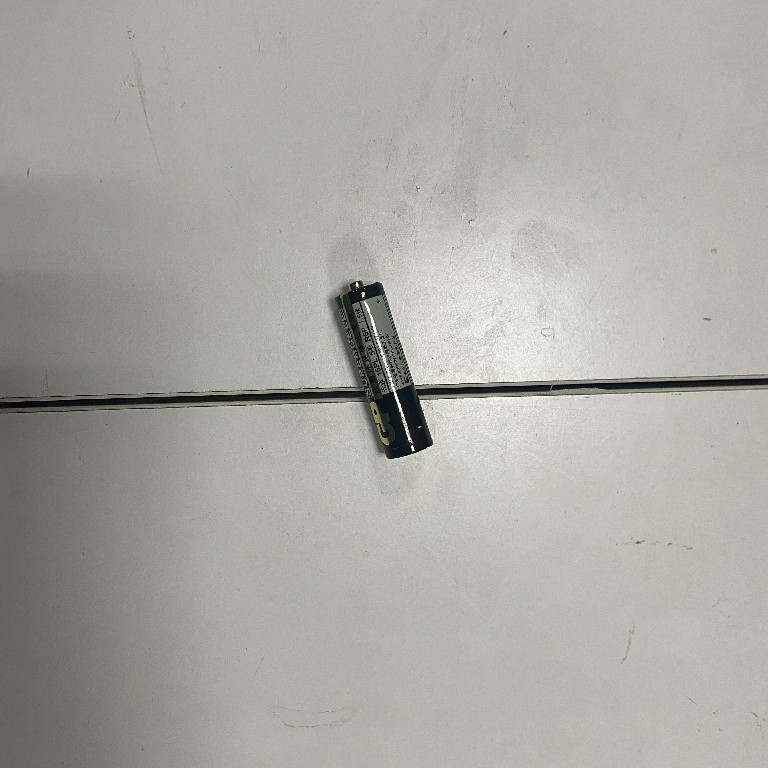charge: (329, 278, 435, 464)
